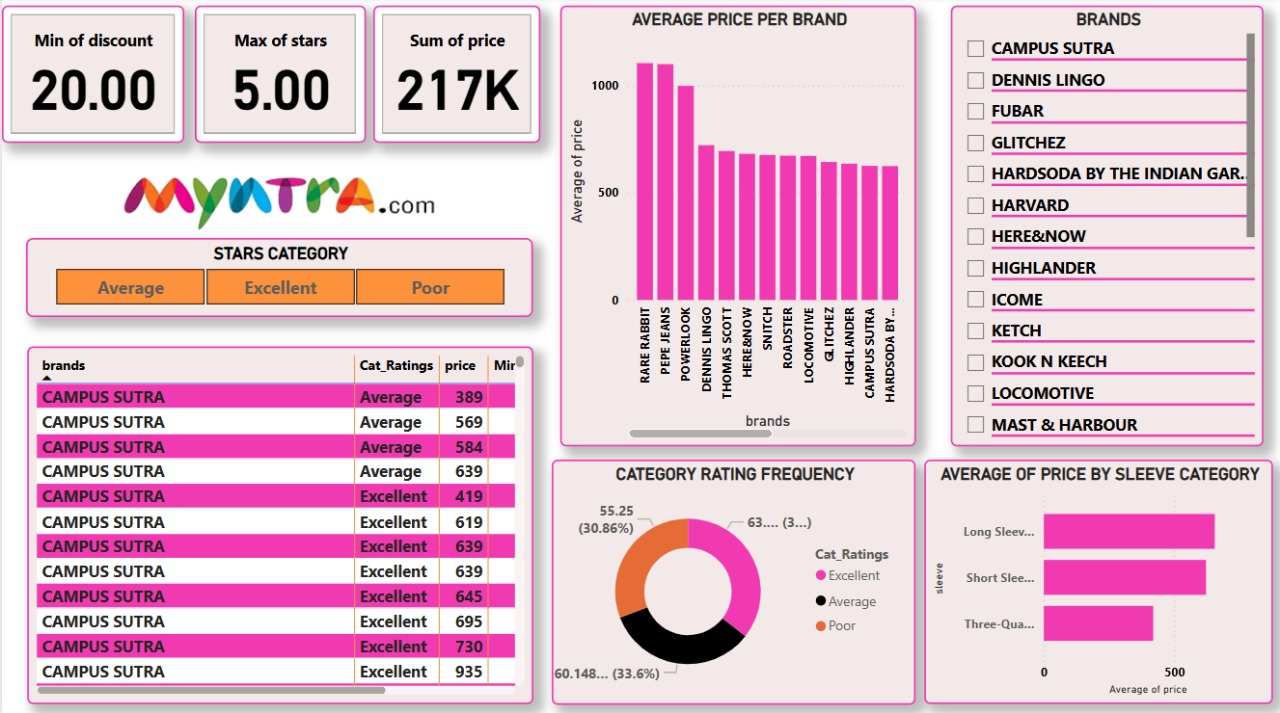

The page's visual inventory and layout, read from the dashboard file:
{"tool":"powerbi","page":{"name":"Page 1","canvas":[1280,720],"ordinal":0},"visuals":[{"type":"cardVisual","fields":{"Data":["Max(cleaned_myntra_for_BI.stars)"]},"box":[193,8.1,170.9,137.2],"z":1000},{"type":"tableEx","fields":{"Values":["cleaned_myntra_for_BI.brands","cleaned_myntra_for_BI.Cat_Ratings","cleaned_myntra_for_BI.price","Min(cleaned_myntra_for_BI.discount)","cleaned_myntra_for_BI.fit"]},"box":[25.3,349.9,506.7,358.3],"z":3000},{"type":"slicer","title":"STARS CATEGORY","fields":{"Values":["cleaned_myntra_for_BI.Cat_Ratings"]},"box":[24.4,241.9,507,79.1],"z":4000},{"type":"slicer","title":"BRANDS","fields":{"Values":["cleaned_myntra_for_BI.brands"]},"box":[949.5,8.4,312.5,441.6],"z":5000},{"type":"columnChart","title":"AVERAGE PRICE PER BRAND","fields":{"Category":["cleaned_myntra_for_BI.brands"],"Y":["Avg(cleaned_myntra_for_BI.price)"]},"box":[558.1,8.1,355.8,441.9],"z":6000},{"type":"donutChart","title":"CATEGORY RATING FREQUENCY","fields":{"Y":["Avg(cleaned_myntra_for_BI.discount)"],"Series":["cleaned_myntra_for_BI.Cat_Ratings"],"Category":["cleaned_myntra_for_BI.Cat_Ratings"]},"box":[550,462.8,364,245.3],"z":7000},{"type":"clusteredBarChart","title":"AVERAGE OF PRICE BY SLEEVE CATEGORY","fields":{"Y":["Avg(cleaned_myntra_for_BI.price)"],"Category":["cleaned_myntra_for_BI.sleeve"]},"box":[922.9,463.3,348.7,244.9],"z":8000},{"type":"cardVisual","fields":{"Data":["Sum(cleaned_myntra_for_BI.price)"]},"box":[372.1,8.1,167.4,137.2],"z":8001},{"type":"cardVisual","fields":{"Data":["Min(cleaned_myntra_for_BI.discount)"]},"box":[0,8.4,182.2,137.5],"z":8002},{"type":"image","box":[65.1,55.5,425.9,304],"z":8003}]}

Visuals, with their boxes in screenshot pixels (x1, y1, x2, y2), scaled from the page's 1280x720 canvas onto the 1280x713 screenshot:
cardVisual - Max(cleaned_myntra_for_BI.stars): x1=193, y1=8, x2=364, y2=144
tableEx - cleaned_myntra_for_BI.brands x cleaned_myntra_for_BI.Cat_Ratings: x1=25, y1=346, x2=532, y2=701
"STARS CATEGORY" slicer: x1=24, y1=240, x2=531, y2=318
"BRANDS" slicer: x1=950, y1=8, x2=1262, y2=446
"AVERAGE PRICE PER BRAND" columnChart: x1=558, y1=8, x2=914, y2=446
"CATEGORY RATING FREQUENCY" donutChart: x1=550, y1=458, x2=914, y2=701
"AVERAGE OF PRICE BY SLEEVE CATEGORY" clusteredBarChart: x1=923, y1=459, x2=1272, y2=701
cardVisual - Sum(cleaned_myntra_for_BI.price): x1=372, y1=8, x2=540, y2=144
cardVisual - Min(cleaned_myntra_for_BI.discount): x1=0, y1=8, x2=182, y2=144
image: x1=65, y1=55, x2=491, y2=356
